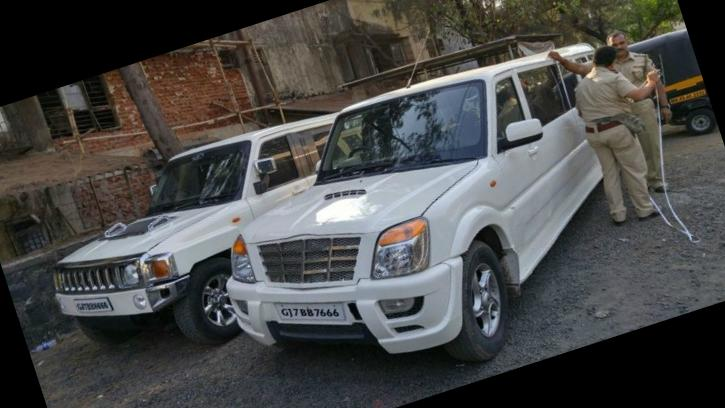plate: (264, 273, 357, 353)
